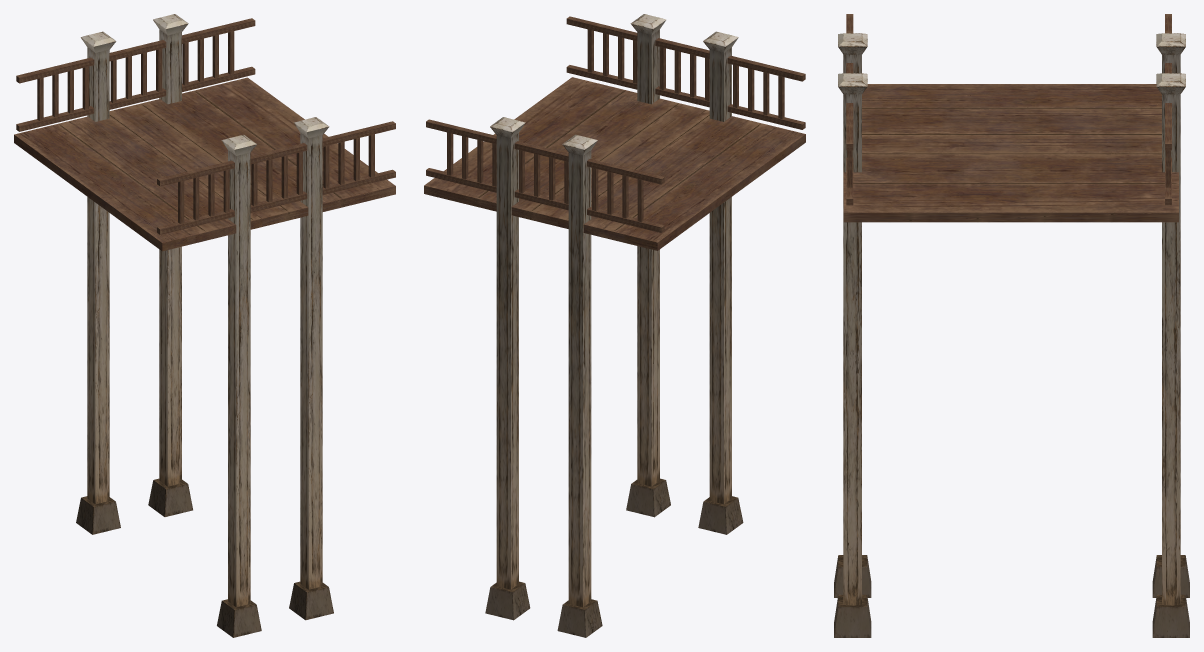
Rendered from bridge_mid.fbx.
3 renders of one model, left to right at view 1: azimuth 30°, elevation 25°; view 2: azimuth 150°, elevation 25°; view 3: azimuth 270°, elevation 25°, orthographic. The views are drawn at different scales.
Visible parts, largest first — view 1: Object021; view 2: Object021; view 3: Object021.
Boxes of the visible parts, box(x1,y1,x2,y2) form: Object021: box(14, 14, 395, 637); Object021: box(424, 14, 805, 637); Object021: box(834, 14, 1189, 637).
Bounding box in the file's own units: 109 × 216 × 126.
